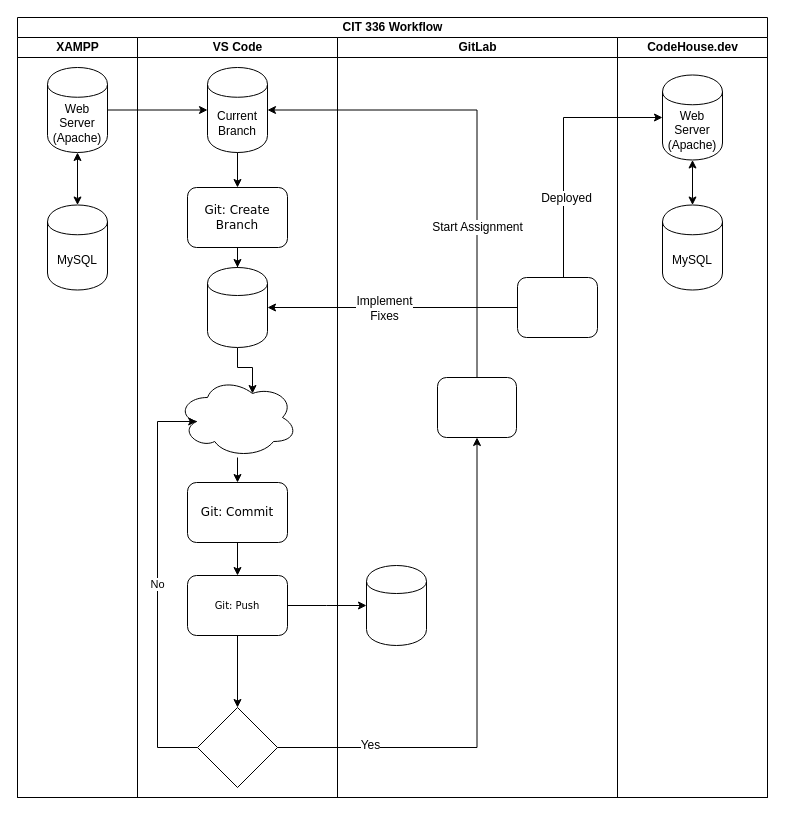
The diagram is 785 pixels wide and 815 high, and some of its shapes have lost their labels. Each missing label, with the centre of its shape:
"Complete Some Work" belongs at (x=237, y=417).
"Create Merge Request" belongs at (x=476, y=407).
"Finished?" belongs at (x=237, y=747).
"GitLab Branch" belongs at (x=396, y=605).
"Merge Request Reviewed" belongs at (x=557, y=307).
"New Branch" belongs at (x=237, y=307).
